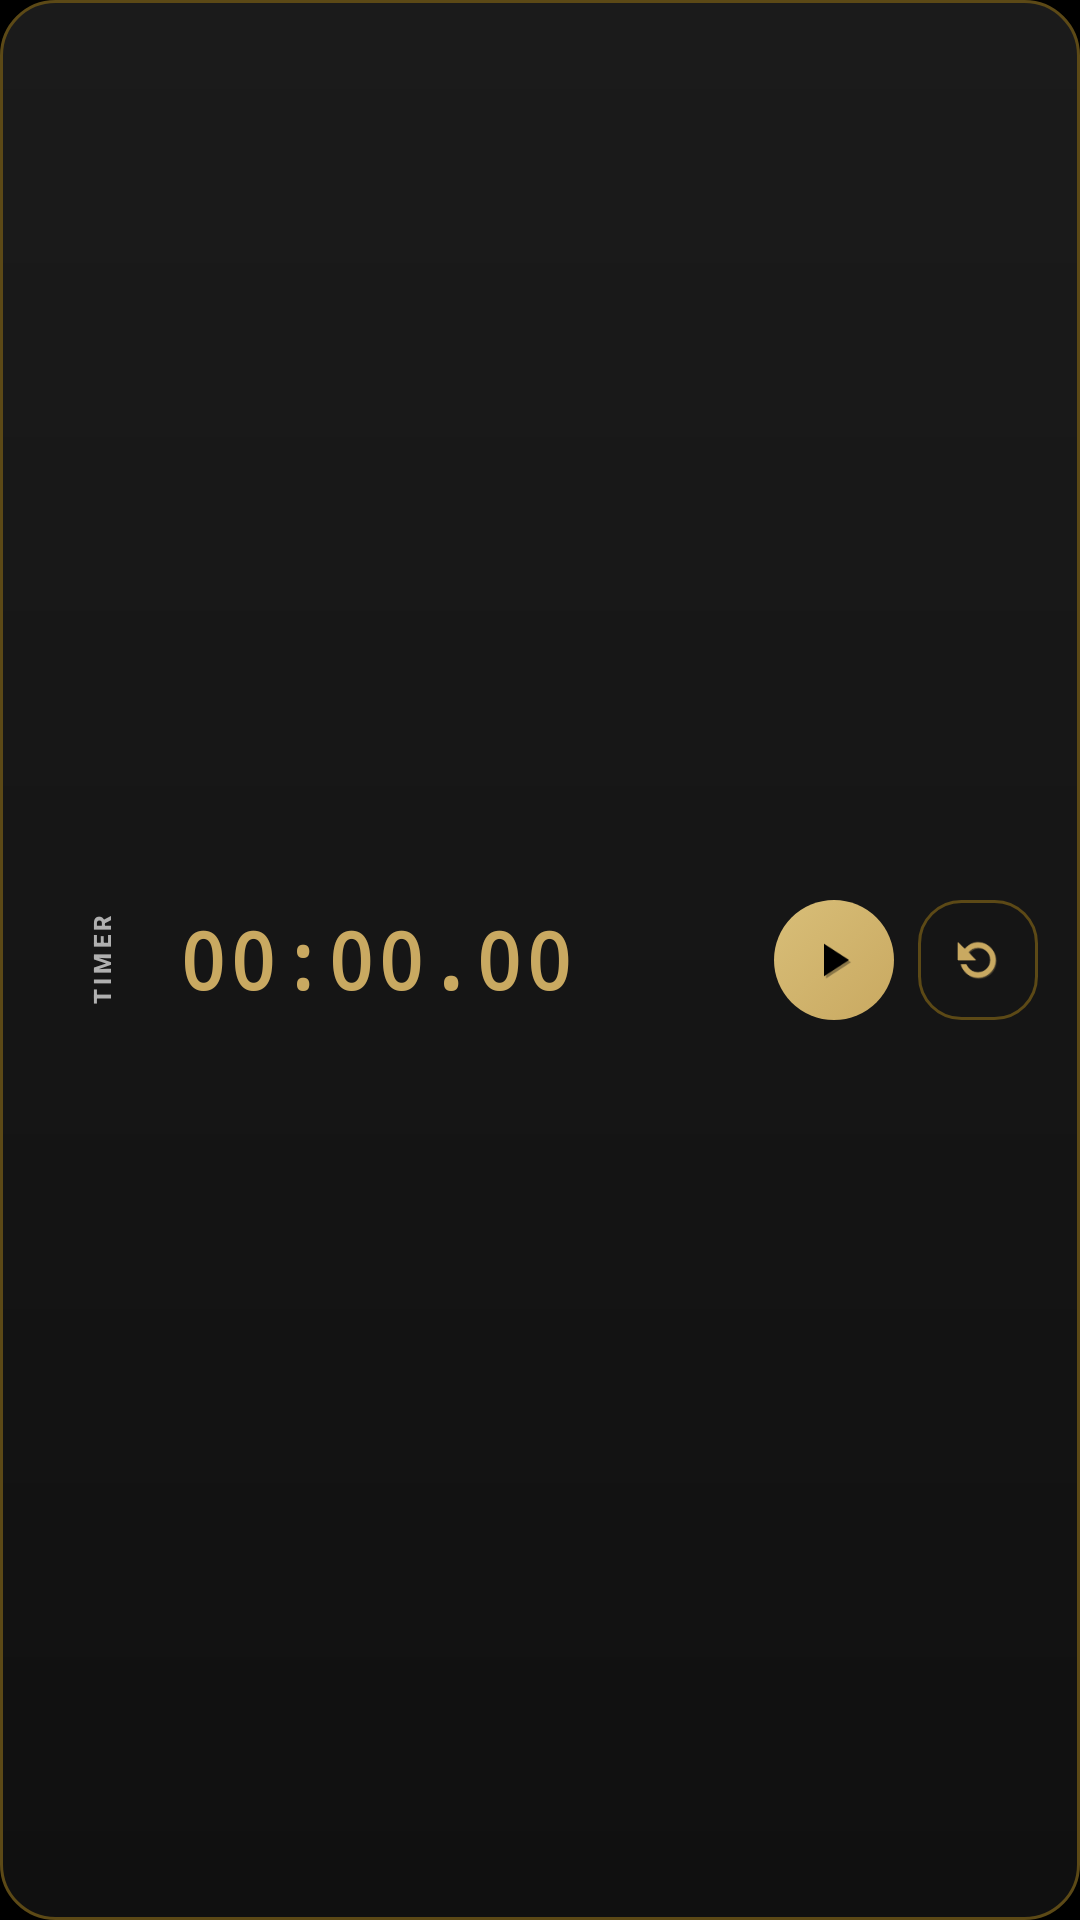

Where icons sit on this 1080*1920 app screen, as (x1, y1, x2, y2):
Timer starten: (774, 900, 894, 1020)
Zurücksetzen: (918, 900, 1038, 1020)
